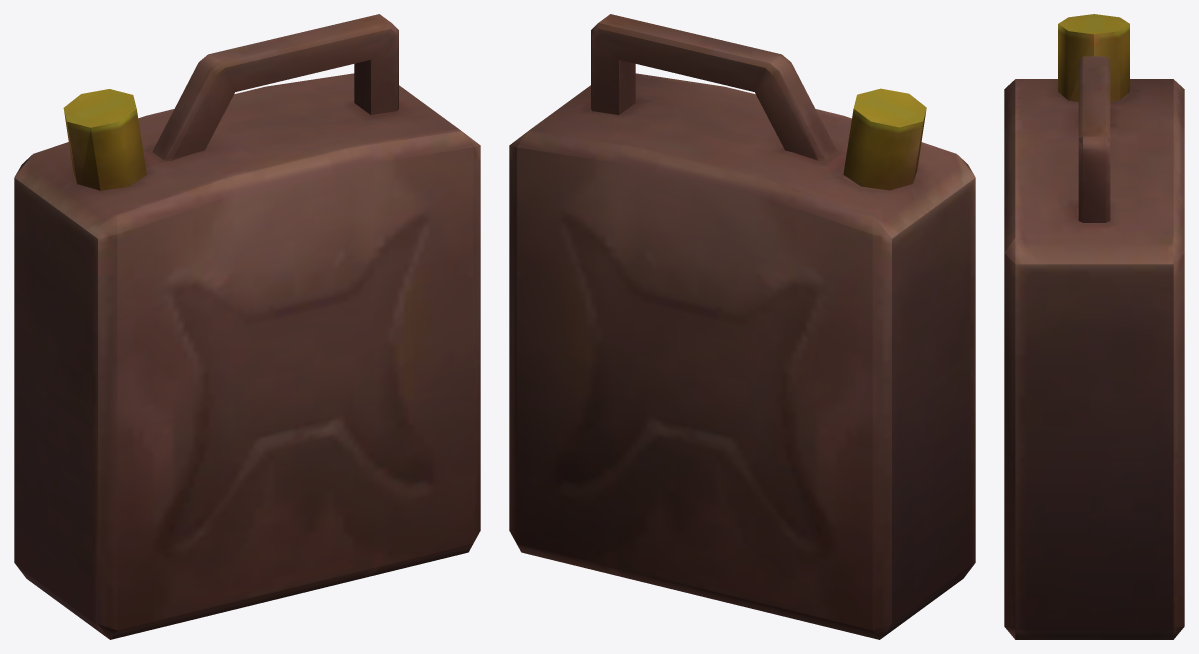
The model's file is Tank.obj.
3 views of the same model, side by side, from view 1: azimuth 30°, elevation 25°; view 2: azimuth 150°, elevation 25°; view 3: azimuth 270°, elevation 25° (orthographic). The views are drawn at different scales.
Parts seen in each view (by area): view 1: g0; view 2: g0; view 3: g0.
Boxes of the visible parts, x1=… form: g0: x1=14, y1=14, x2=480, y2=639; g0: x1=509, y1=14, x2=975, y2=639; g0: x1=1004, y1=14, x2=1184, y2=639.
Size of the model in its own units: 0.1768 by 0.2273 by 0.0764.
Materials: 1 (1 with a texture image).
